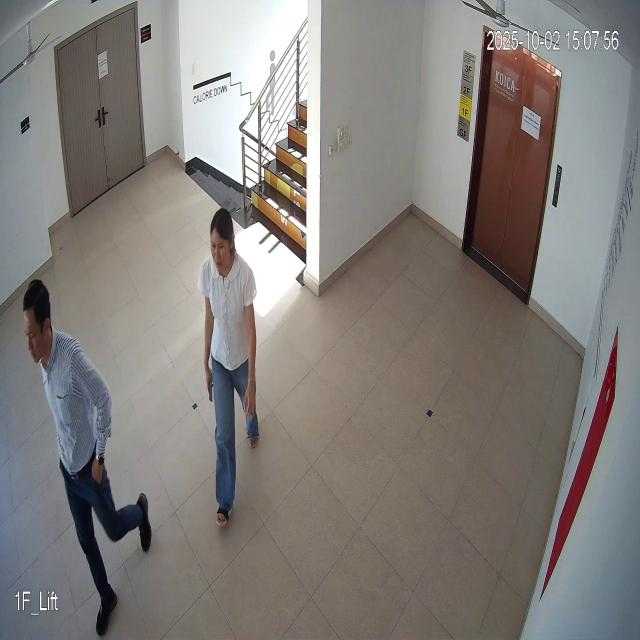face: (204, 204, 237, 277)
